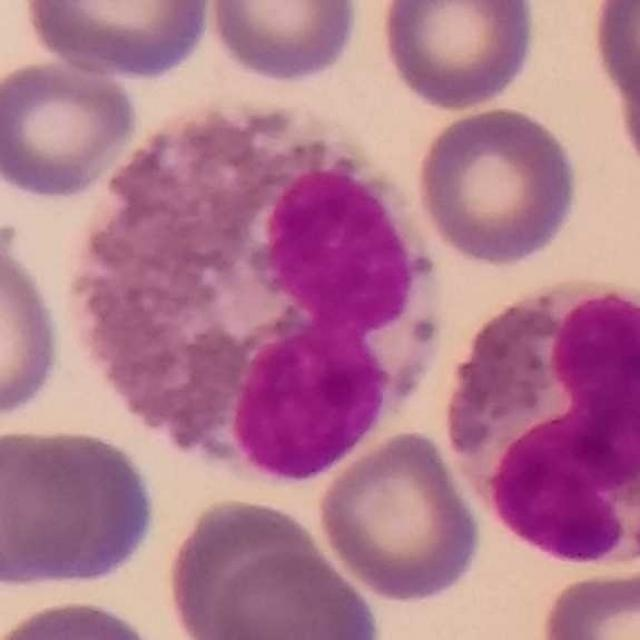Eosinophil: (74, 95, 448, 481), (448, 276, 639, 570)
RBC: (313, 427, 485, 606), (411, 102, 582, 268), (162, 493, 326, 640), (14, 430, 153, 585), (0, 55, 141, 202), (375, 0, 541, 114), (0, 425, 106, 593), (205, 545, 385, 639), (17, 0, 216, 81), (204, 0, 364, 87), (0, 221, 67, 428), (536, 562, 640, 640), (0, 595, 171, 639), (587, 0, 640, 110), (616, 49, 640, 161)
